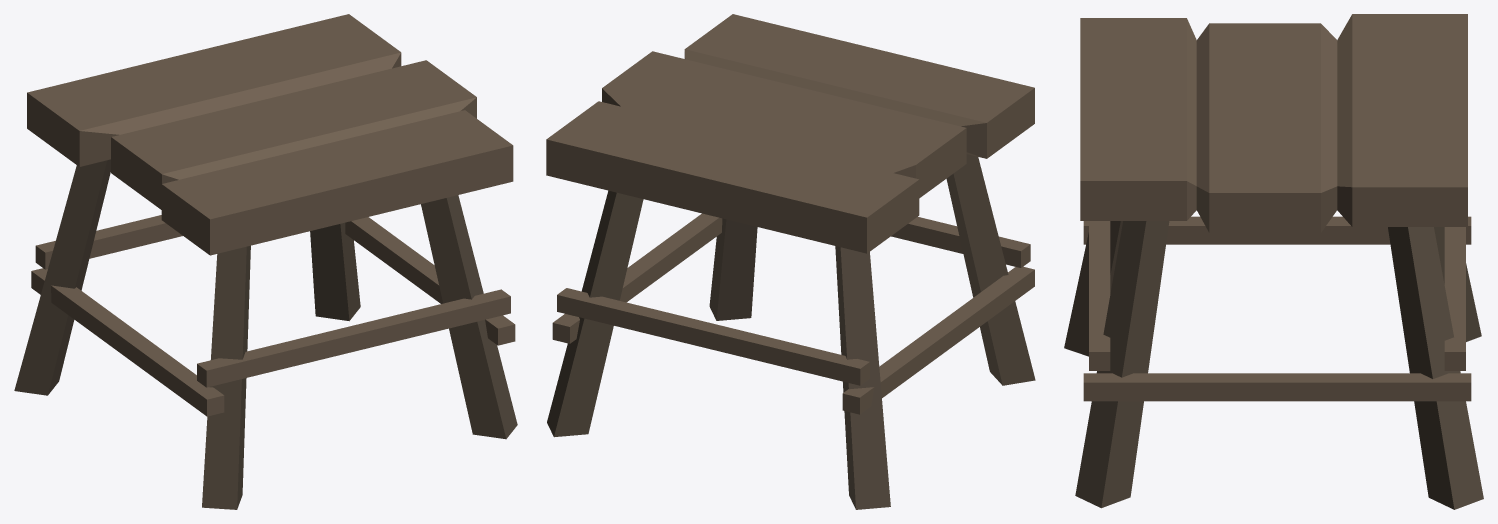
The model's file is SM_Prop_Stool_01.glb.
3 renders of one model, left to right at view 1: azimuth 30°, elevation 25°; view 2: azimuth 150°, elevation 25°; view 3: azimuth 270°, elevation 25°, orthographic. The views are drawn at different scales.
Parts seen in each view (by area): view 1: SM_Prop_Stool_01; view 2: SM_Prop_Stool_01; view 3: SM_Prop_Stool_01.
Boxes of the visible parts, left/top/right/bottom form: SM_Prop_Stool_01: left=14, top=14, right=517, bottom=509; SM_Prop_Stool_01: left=546, top=14, right=1035, bottom=509; SM_Prop_Stool_01: left=1064, top=14, right=1483, bottom=509.
Bounding box in the file's own units: 0.00617 × 0.00487 × 0.00579.
